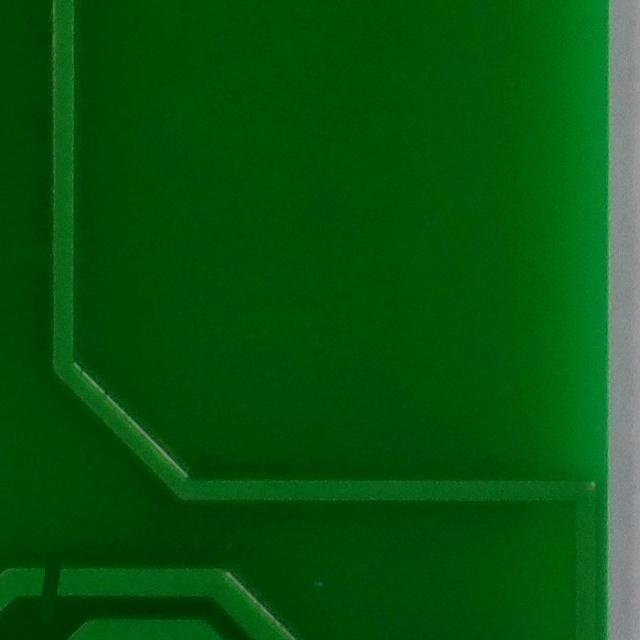open_circuit: (23, 544, 82, 616)
